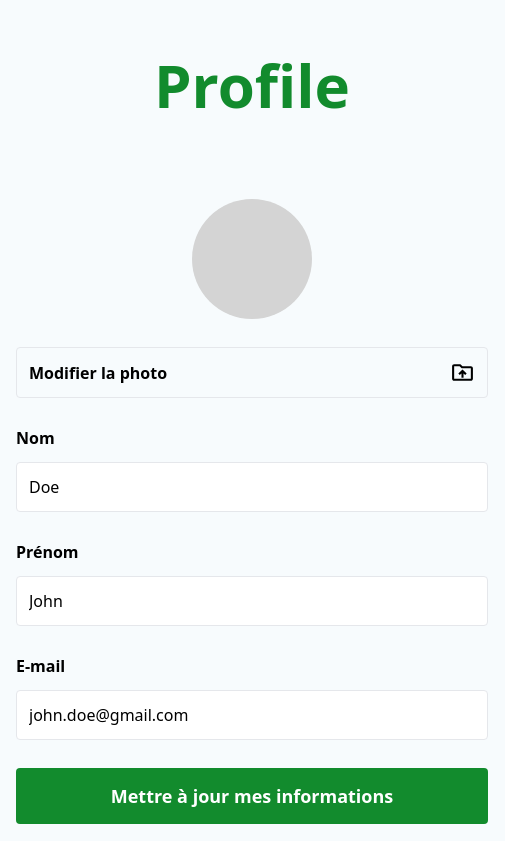
it: UserProfile Screen › should shows a success message if there are no errors during the request when the user submit the form
Replace the text in the field with test id "lastname" with "Dupont" at (252, 487), box [16,462,488,512]
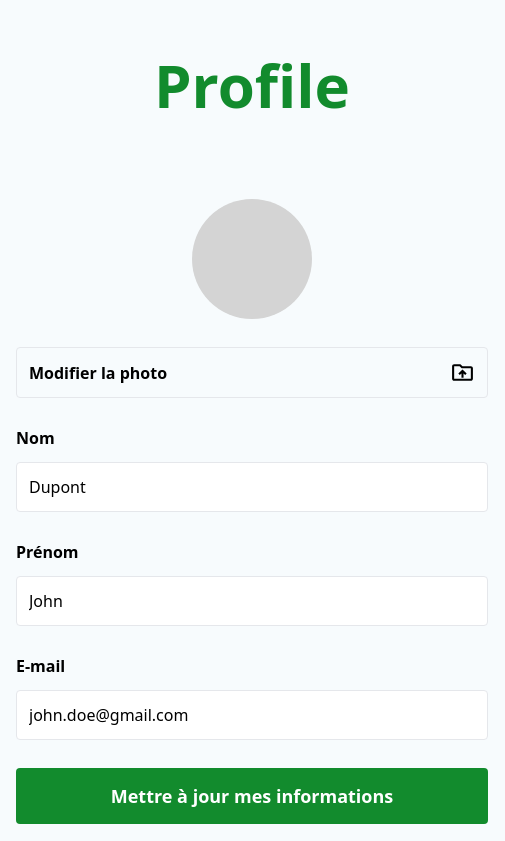
Replace the text in the field labelled "Prénom" with "Jean" at (252, 601), box [16,576,488,626]
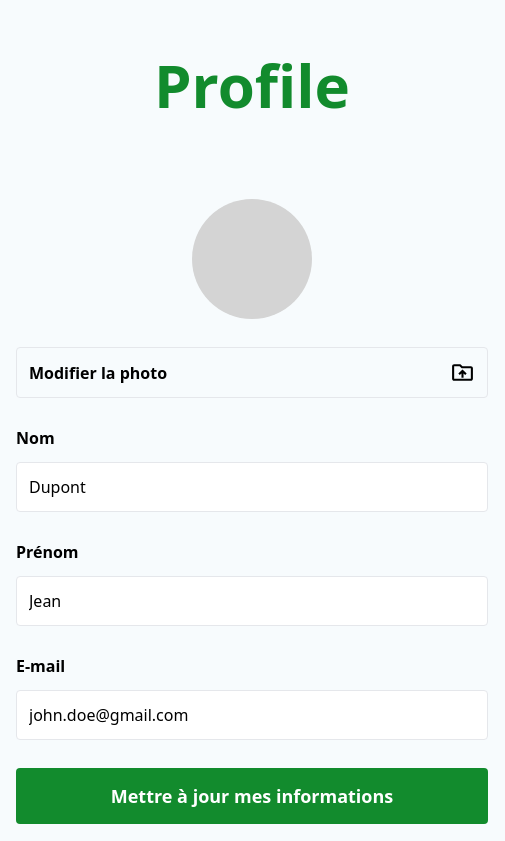
Replace the text in the field labelled "E-mail" with "jean.dupont@gmail.com" at (252, 715), box [16,690,488,740]
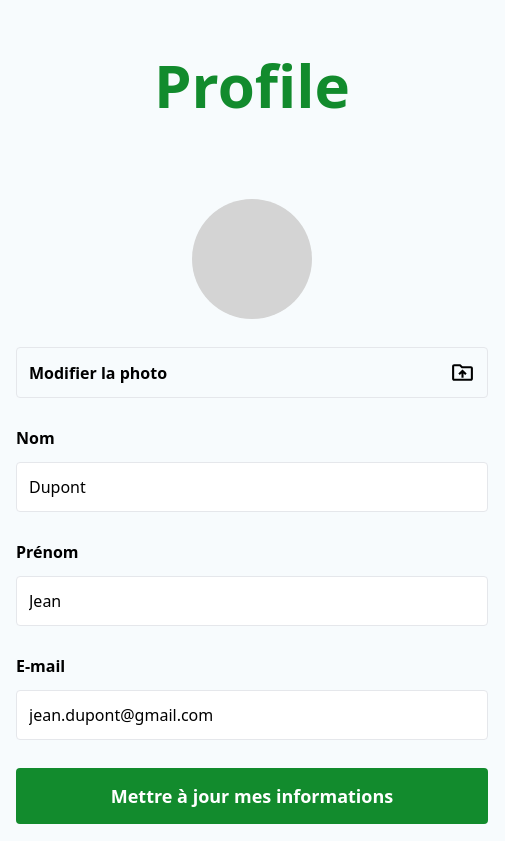
Click the button "Mettre à jour mes informations" at (252, 796), box [16,768,488,824]
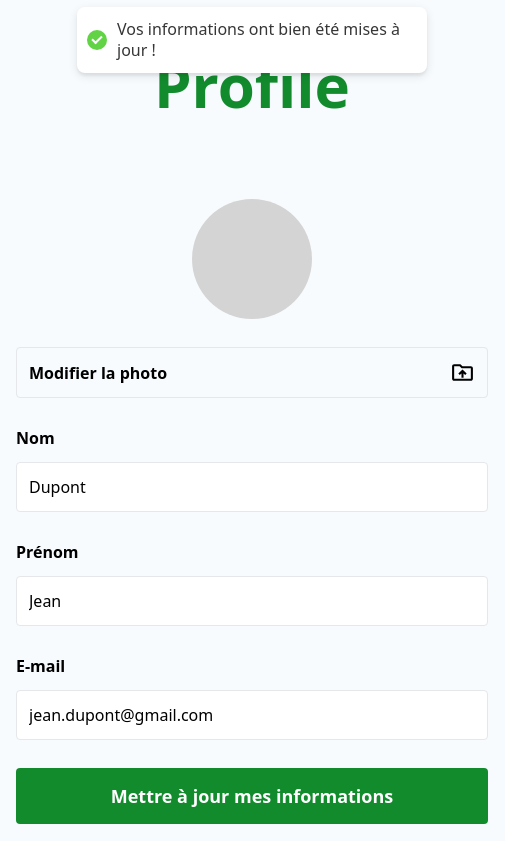
Result: the text "Vos informations ont bien été mises à jour !" is shown at [117,19,407,61]
